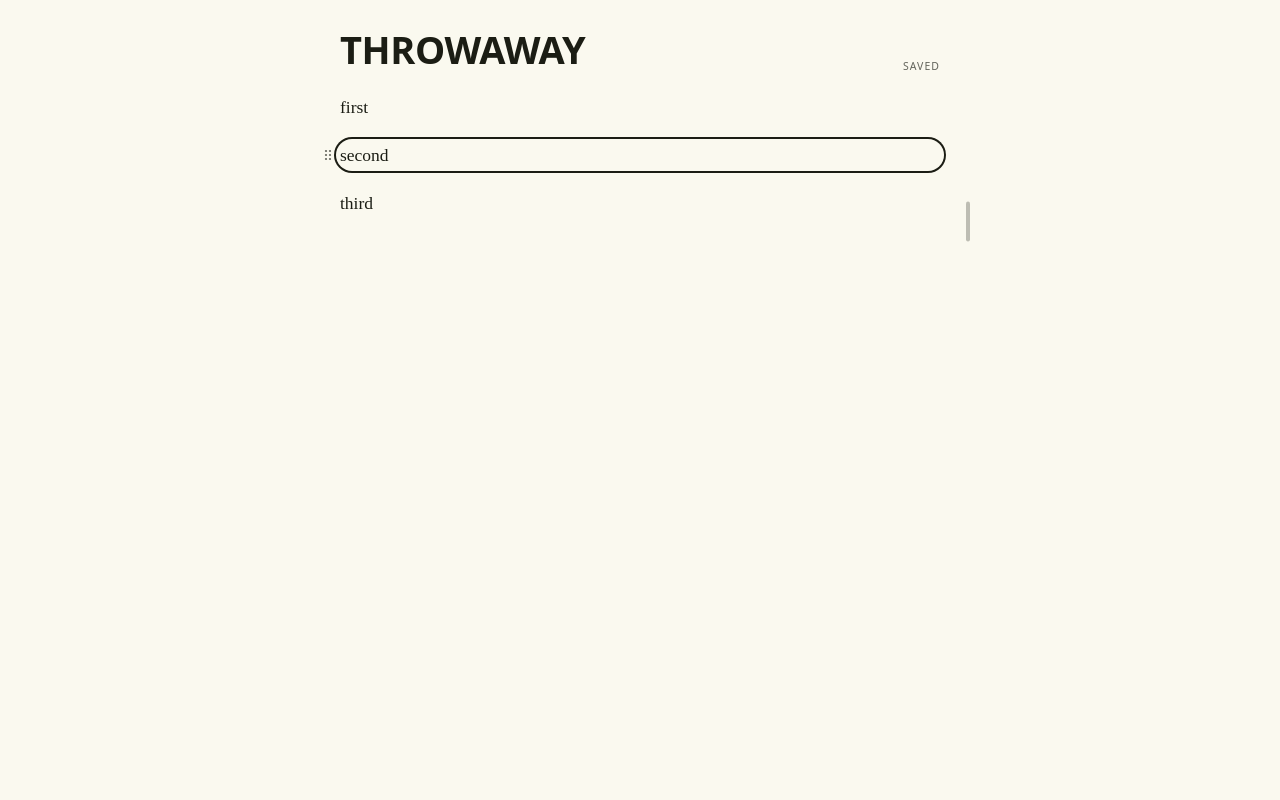
Test: PATH_STEPS A — delete a block via ⌘⌫ on the selected row › shows the undo toast, keeps the other blocks, and never deletes the page
The image size is (1280, 800).
Note: jsdom's platform is not Mac, so the chord is Ctrl+⌫ here (`isCommandOnly`).
Press Backspace in the element with id "block-b2", box [336, 139, 944, 171]
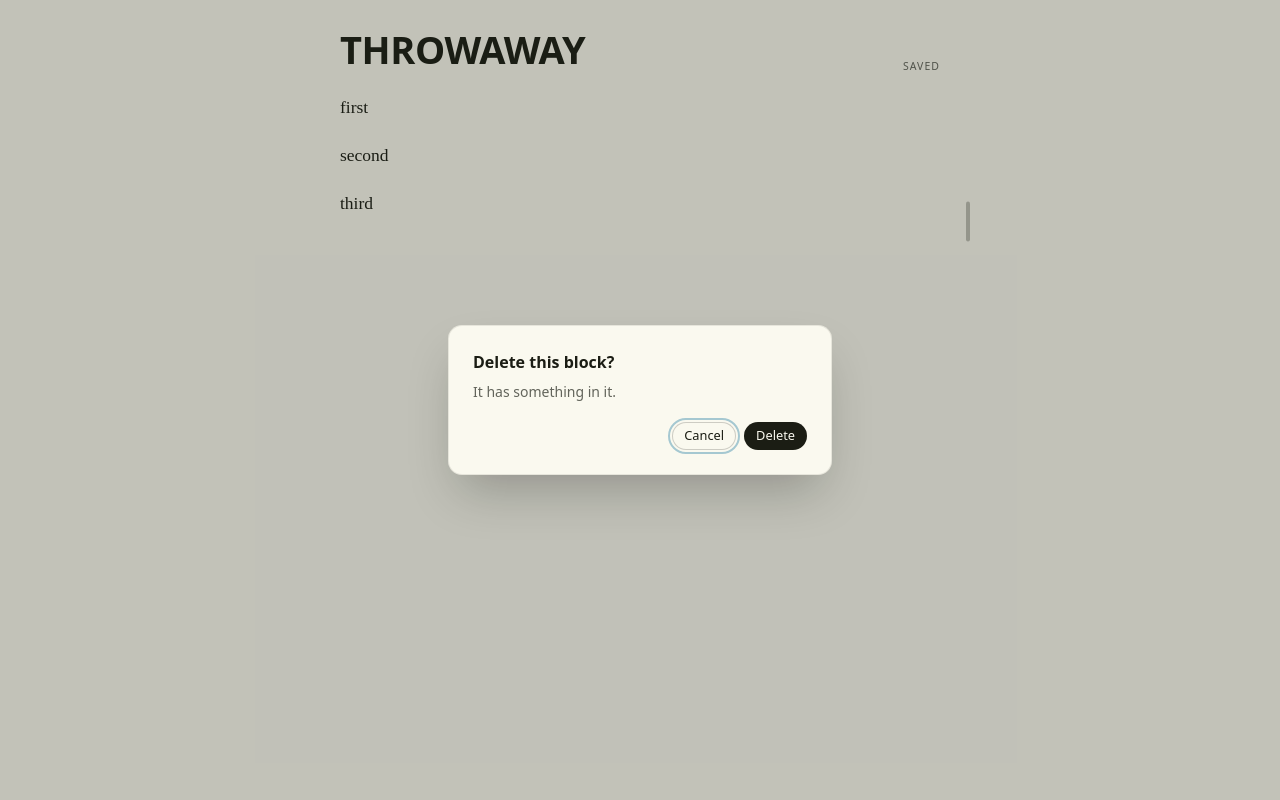
Click the button "Delete": (776, 436) [744, 422, 807, 450]
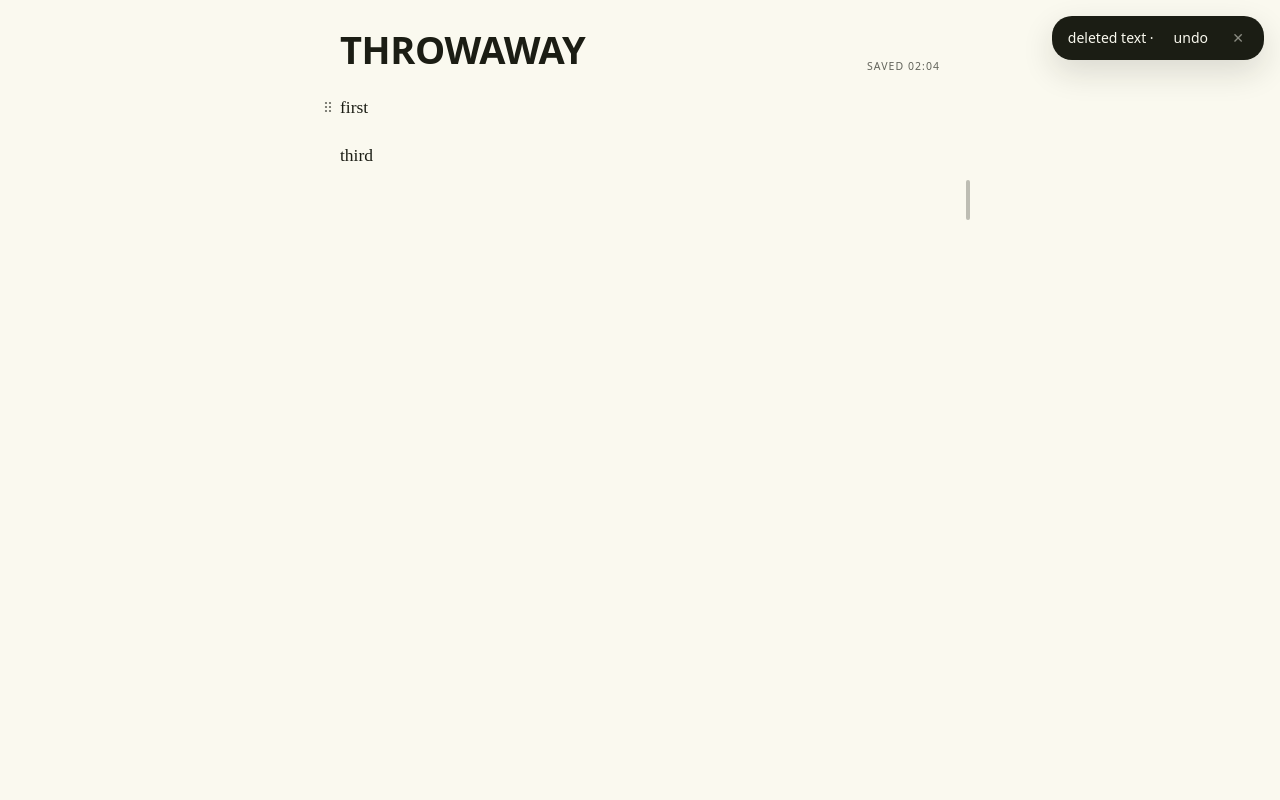
expect the text "deleted text ·" is shown: met, box [1068, 28, 1154, 48]
expect the button "undo" is shown: met, box [1166, 26, 1216, 50]
expect the number of fields named "text block" is 2: met, box [340, 97, 368, 117]; [340, 145, 373, 165]
